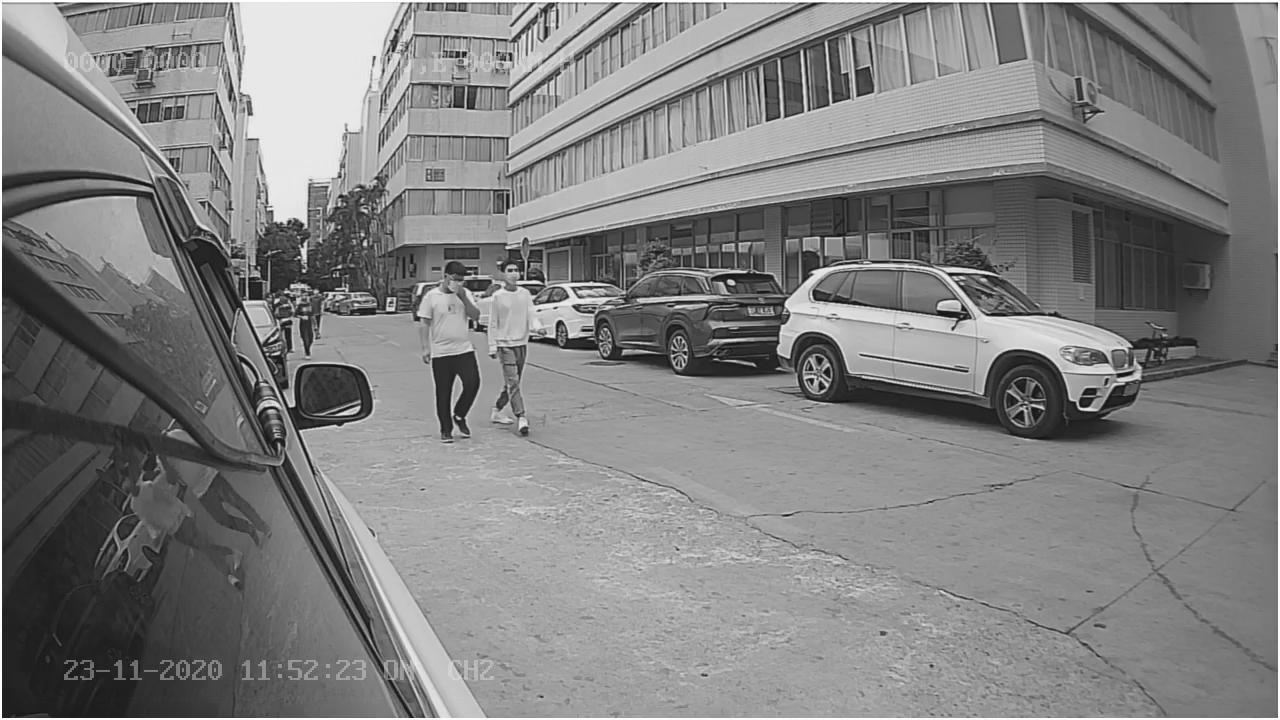person: (411, 260, 475, 447), (488, 260, 537, 435)
